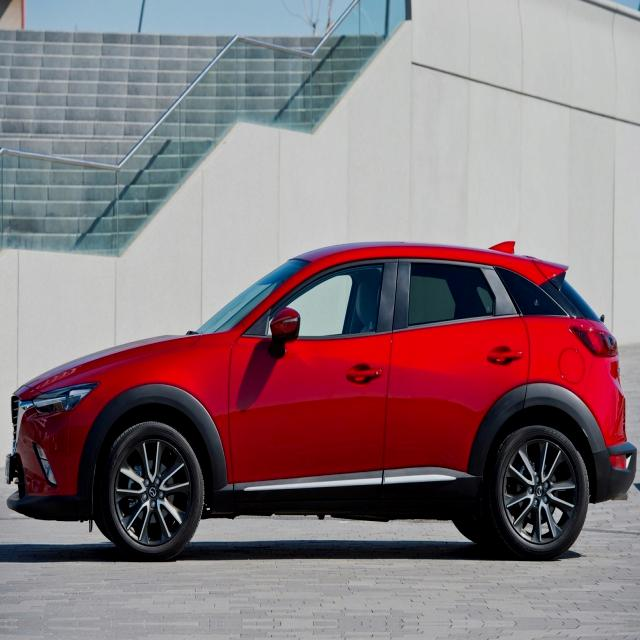SUV: (11, 236, 634, 563)
